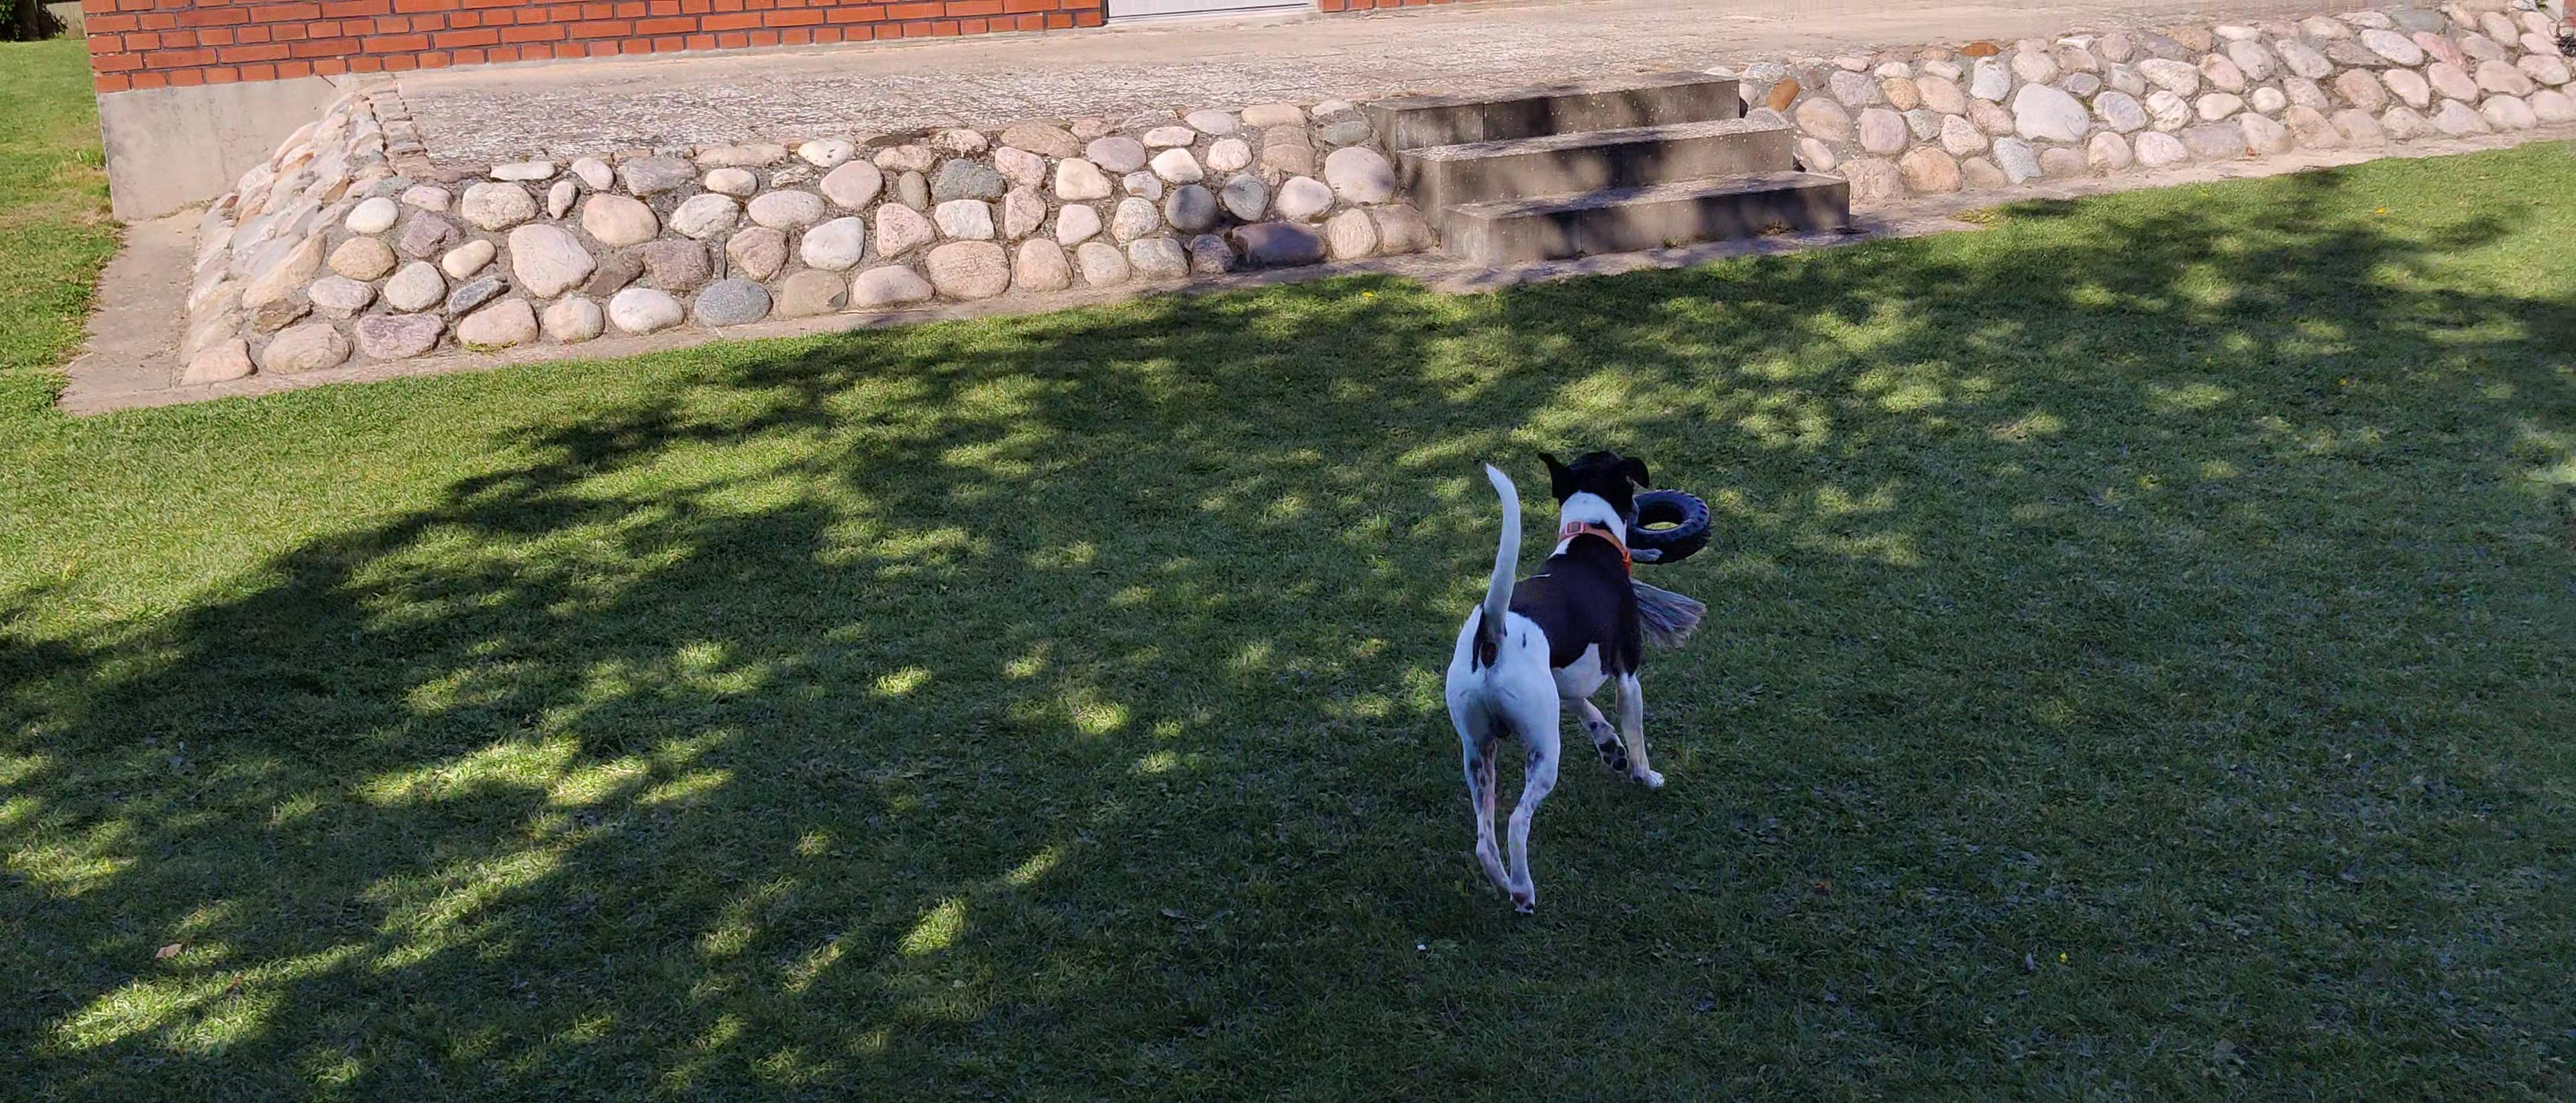Dog: (1441, 442, 1671, 921)
